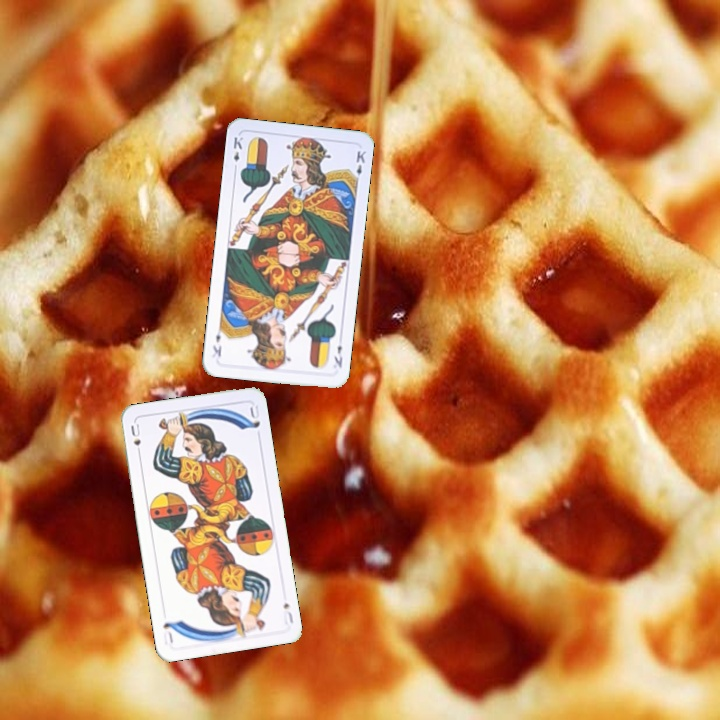EK: (229, 133, 245, 173), (330, 341, 345, 370)
SU: (127, 419, 144, 459), (279, 598, 296, 627)
